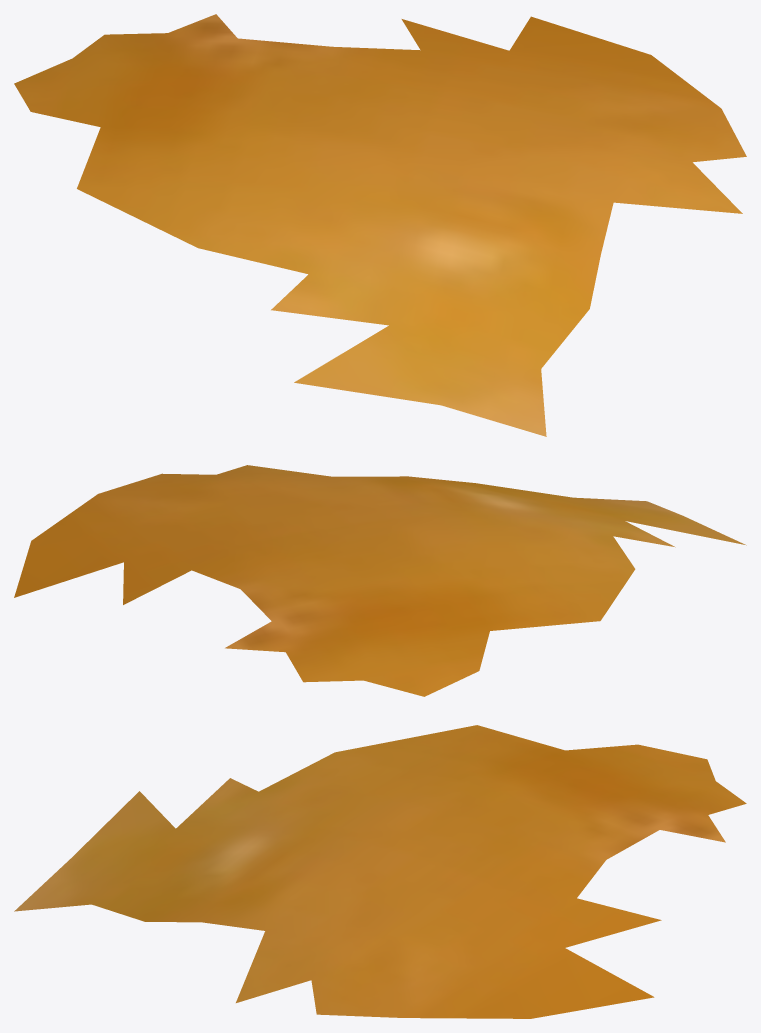
Rendered from egg-bit-1.glb.
3 renders of one model, top to bottom at view 1: azimuth 30°, elevation 25°; view 2: azimuth 150°, elevation 25°; view 3: azimuth 270°, elevation 25°, orthographic. The views are drawn at different scales.
Visible parts, largest first — view 1: defaultMaterial; view 2: defaultMaterial; view 3: defaultMaterial.
Part boxes in pixels (x1=…): defaultMaterial: x1=14, y1=14, x2=746, y2=436; defaultMaterial: x1=14, y1=465, x2=746, y2=696; defaultMaterial: x1=14, y1=725, x2=746, y2=1018.
Size of the model in its own units: 0.0152 by 0.003 by 0.018.
Materials: 1 (1 with a texture image).
